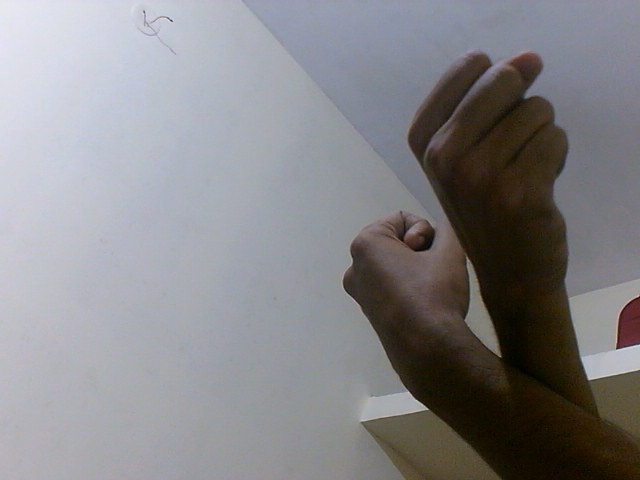hand: (403, 43, 573, 308), (339, 205, 478, 384)
